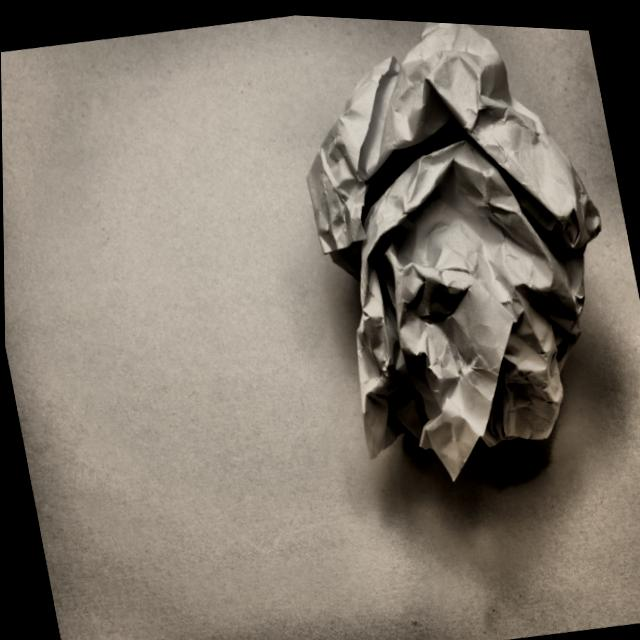Paper: (259, 11, 640, 527)
